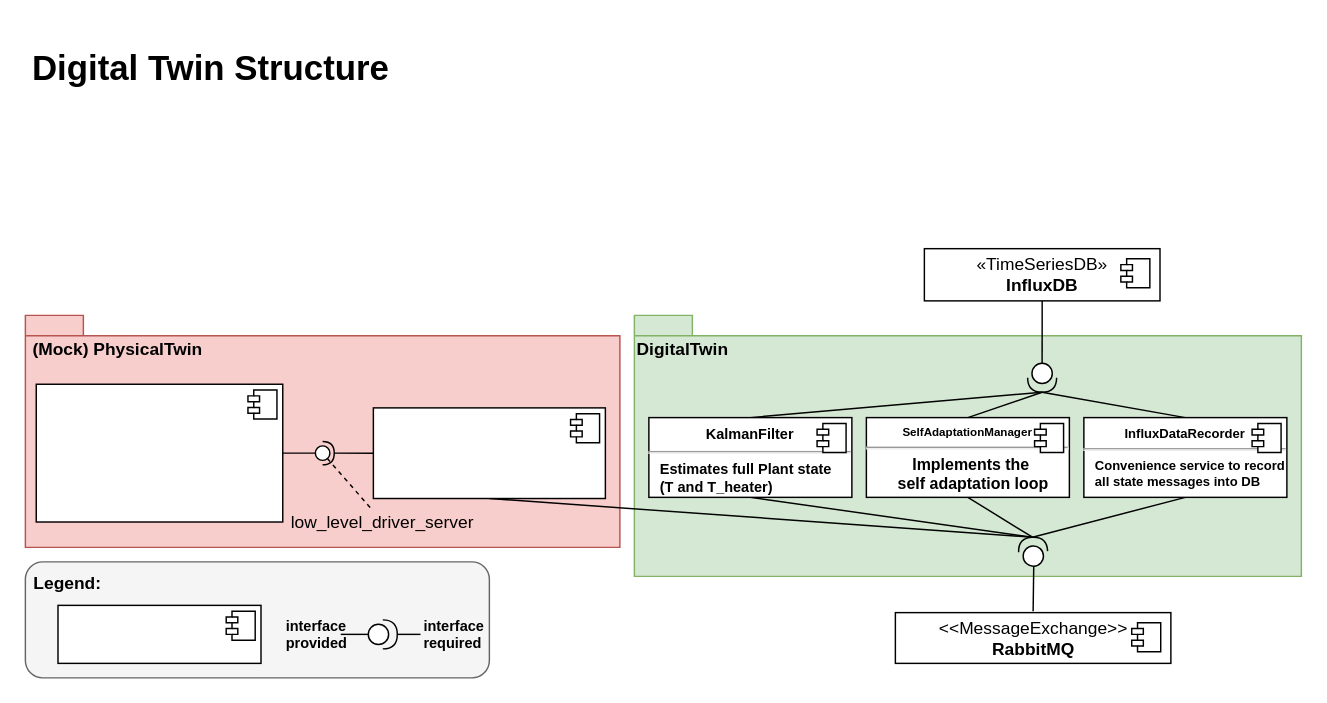
Some shapes in this 1327 by 703 pixel diagram are drawn without their labels. The shapes that lost their labels are listed below. From the top down, each one's centre as x and y in pixels, then its label:
At [159,452]: "Plant + T: Int # Air temperature + heater_on: Bool # Status of heater".
At [488,452]: "Controller".
At [159,633]: "Component Main variables, or responsibility.".
